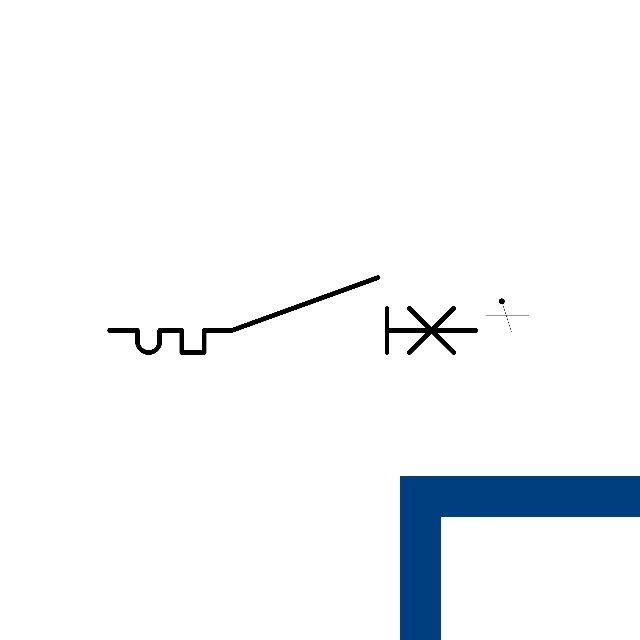interruptor_termomagnetico: (100, 268, 485, 362)
